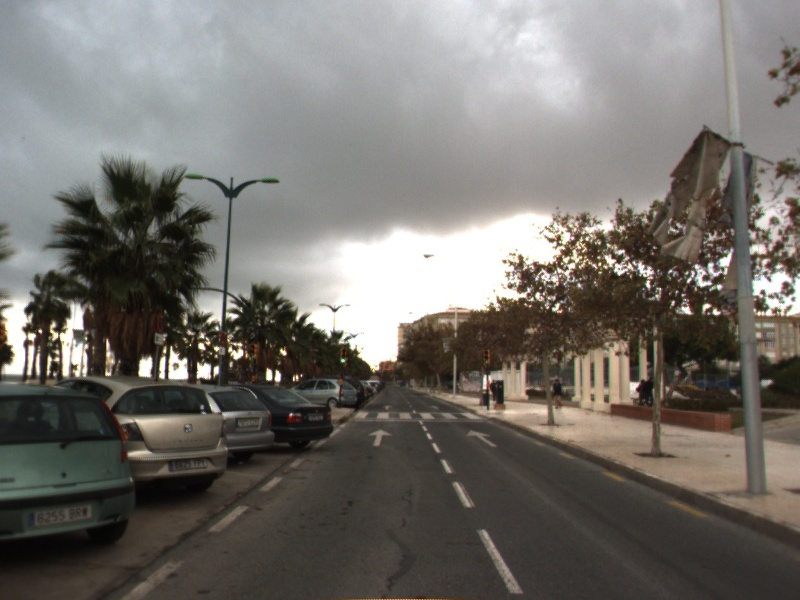STRAIGHT: (465, 428, 499, 449), (366, 427, 394, 448)
